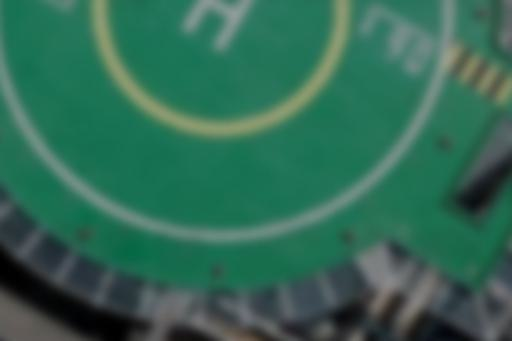Apron: (92, 1, 366, 143)
